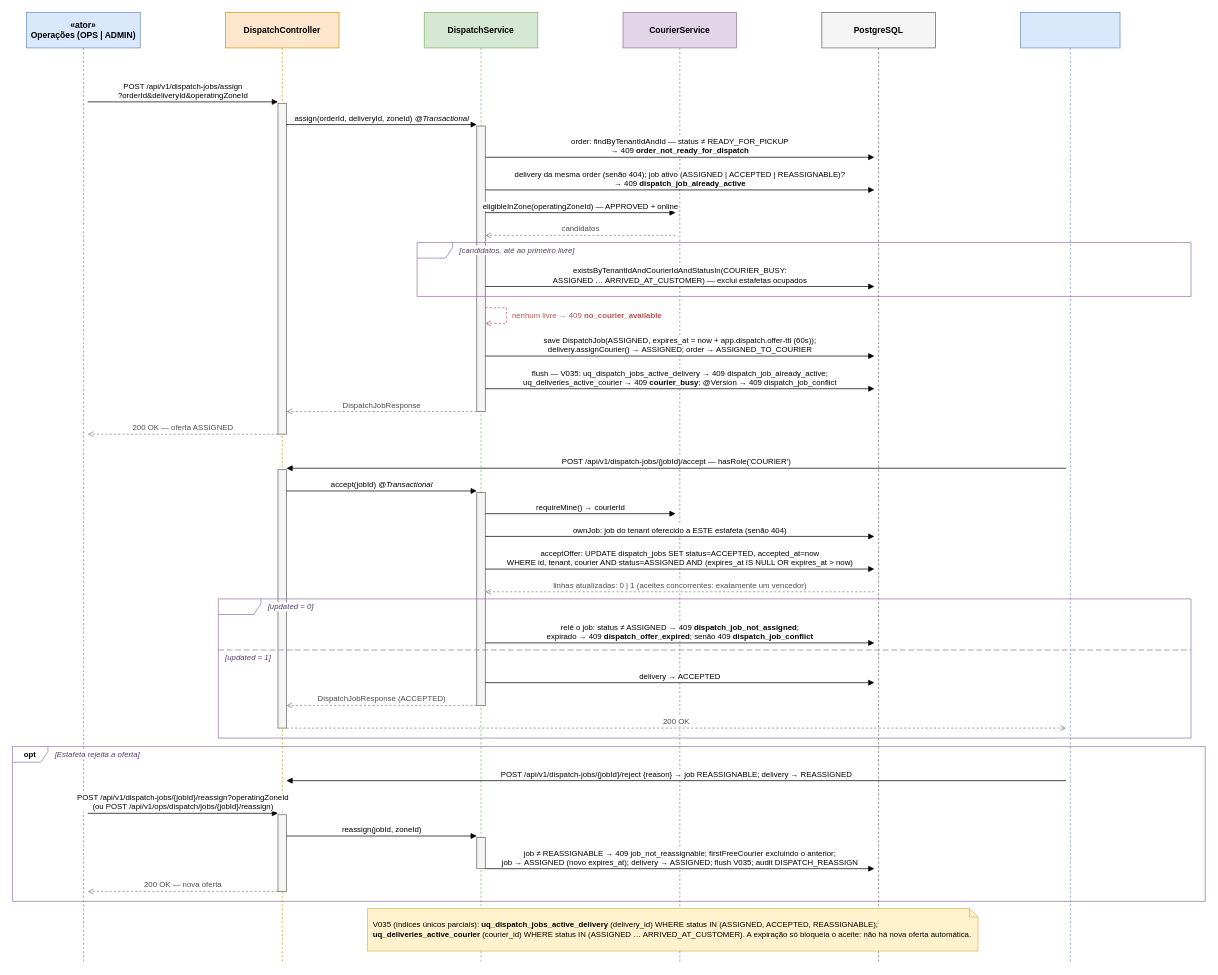
Image size: 1218x975. Some labels were removed from this diagram. The box of each missing label's shape, as (x1, y1, x2, y2) in pixels:
alt: (218, 598, 1191, 738)
loop: (416, 242, 1191, 296)
«ator» Estafeta (app): (1020, 12, 1120, 962)
